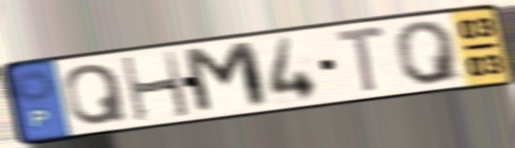4: (266, 34, 320, 105)
H: (118, 49, 193, 124)
M: (179, 39, 274, 118)
Q: (391, 18, 467, 88), (62, 62, 131, 128)
T: (333, 23, 389, 97)
